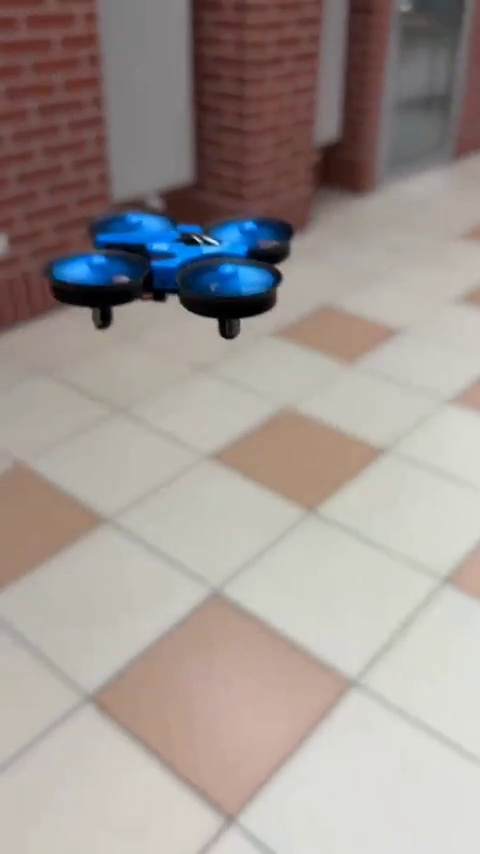drone: (48, 205, 301, 328)
